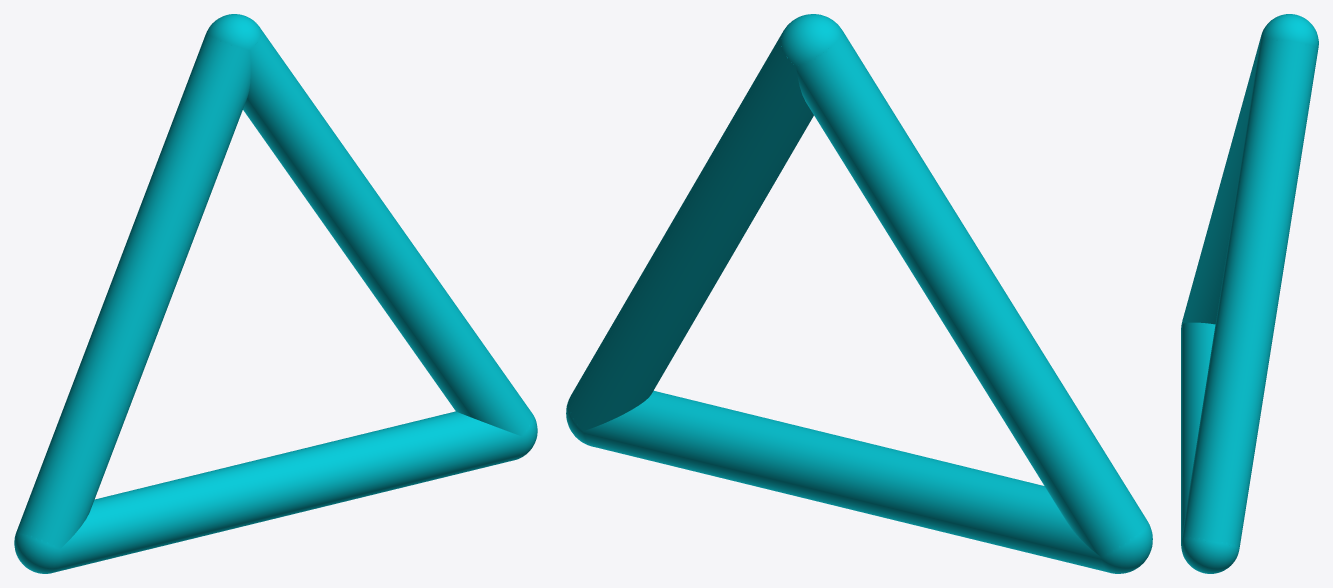
The model's file is herotriangle.glb.
The picture shows the model from 3 angles, left to right: view 1: azimuth 30°, elevation 25°; view 2: azimuth 150°, elevation 25°; view 3: azimuth 270°, elevation 25°; orthographic projection. The views are drawn at different scales.
Parts seen in each view (by area): view 1: triangle_edge_1, triangle_edge_2, triangle_edge_3, triangle_joint_1, triangle_joint_2; view 2: triangle_edge_1, triangle_edge_2, triangle_edge_3, triangle_joint_1, triangle_joint_2; view 3: triangle_edge_3, triangle_edge_1, triangle_edge_2, triangle_joint_3, triangle_joint_1.
Boxes of the visible parts, bbox=[...] form: triangle_edge_1: bbox=[16, 34, 250, 548]; triangle_edge_2: bbox=[54, 411, 522, 572]; triangle_edge_3: bbox=[243, 28, 533, 436]; triangle_joint_1: bbox=[205, 14, 261, 50]; triangle_joint_2: bbox=[14, 530, 61, 573]; triangle_edge_1: bbox=[796, 32, 1147, 557]; triangle_edge_2: bbox=[583, 391, 1107, 572]; triangle_edge_3: bbox=[568, 32, 813, 430]; triangle_joint_1: bbox=[780, 14, 843, 66]; triangle_joint_2: bbox=[1101, 521, 1152, 573]; triangle_edge_3: bbox=[1181, 38, 1318, 548]; triangle_edge_1: bbox=[1181, 37, 1260, 324]; triangle_edge_2: bbox=[1181, 322, 1215, 542]; triangle_joint_3: bbox=[1181, 537, 1239, 573]; triangle_joint_1: bbox=[1260, 14, 1318, 47].
Bounding box in the file's own units: 1.06 × 0.9216 × 0.2576.
